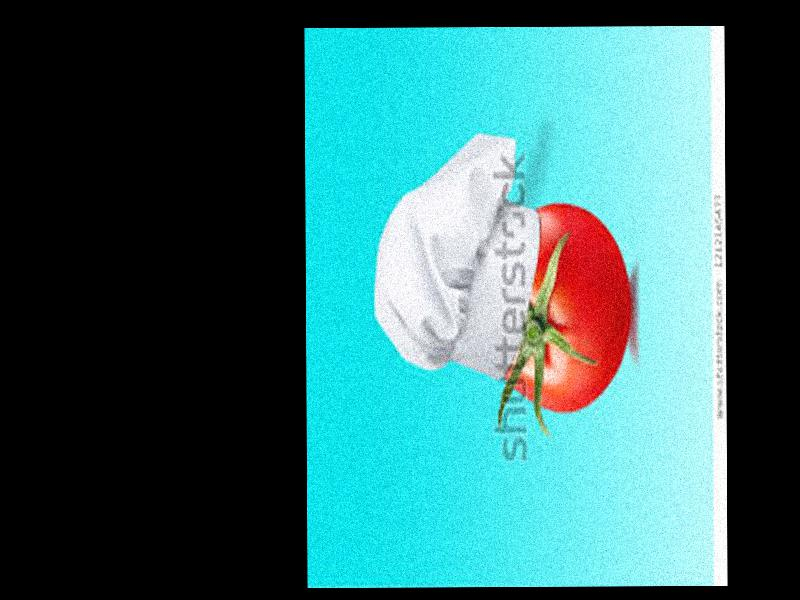Tomato: (502, 203, 629, 409)
